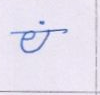anusvara: (40, 21, 45, 24)
